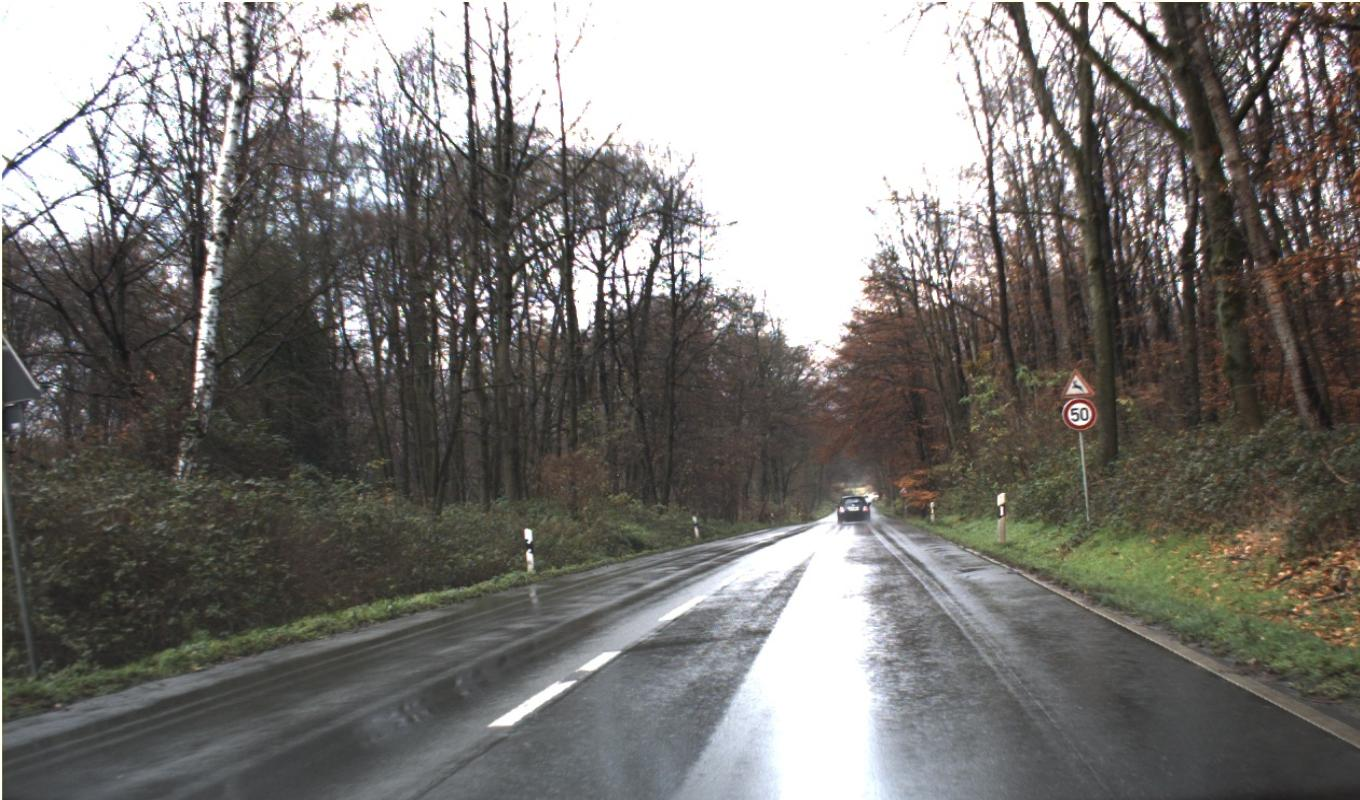animals: (1059, 368, 1097, 431)
